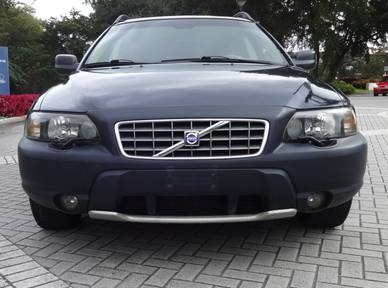volvo: (12, 6, 372, 249)
